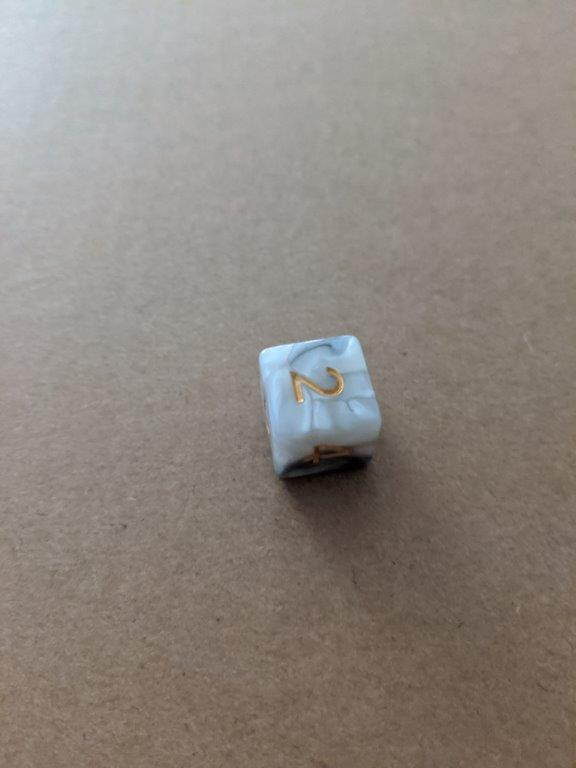d6-2: (256, 331, 382, 487)
